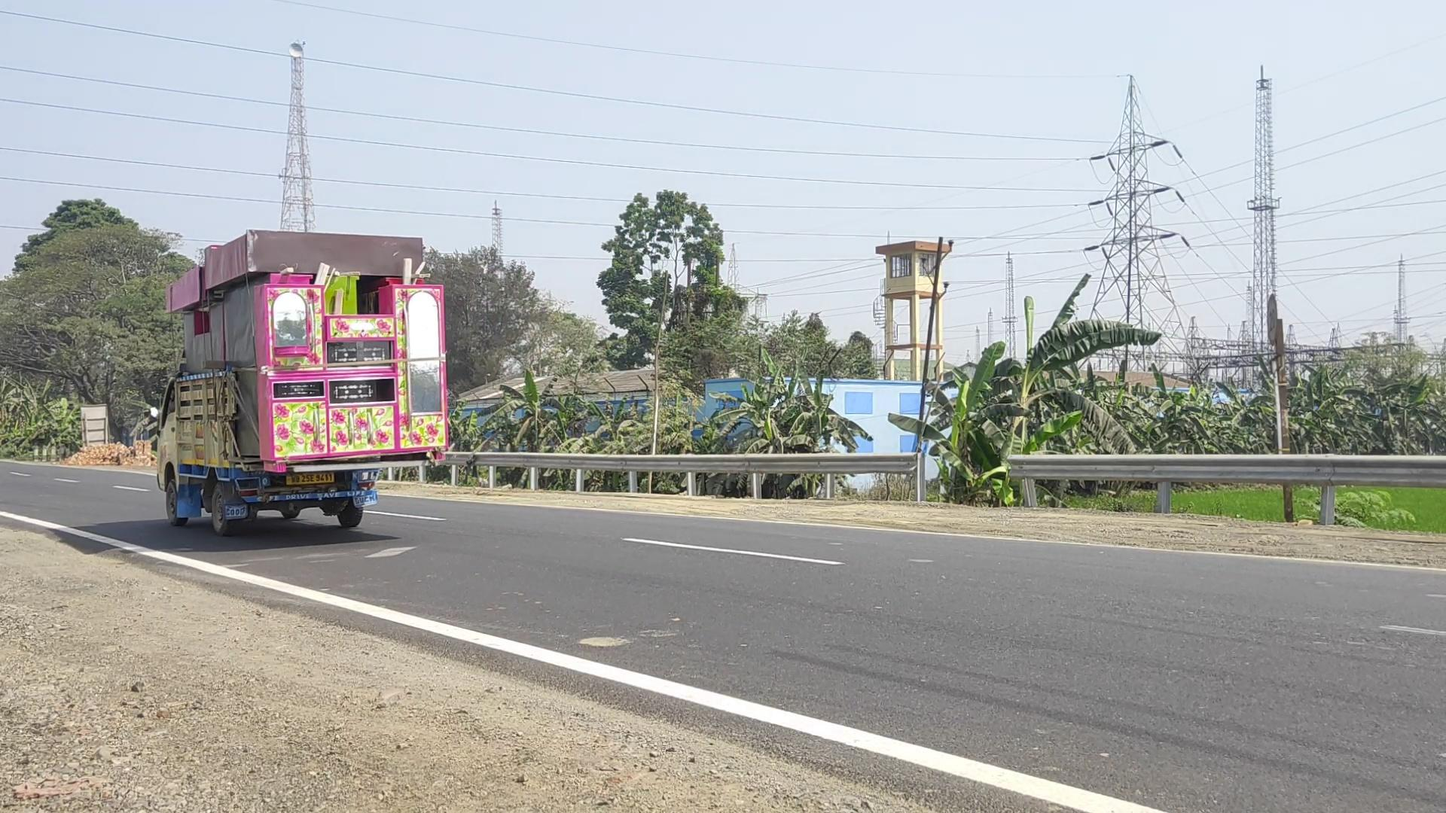van: (151, 229, 448, 537)
